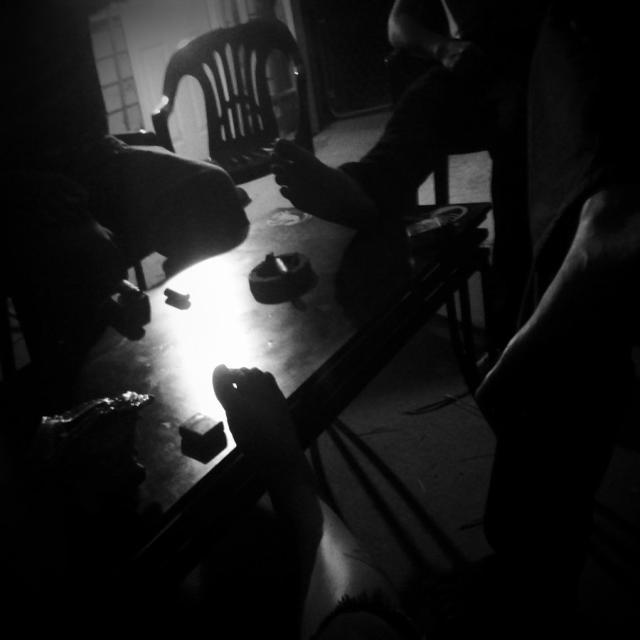People: (270, 65, 627, 218), (454, 168, 633, 433), (191, 329, 341, 640)
Table: (0, 160, 511, 614)
chair: (144, 15, 342, 171)
